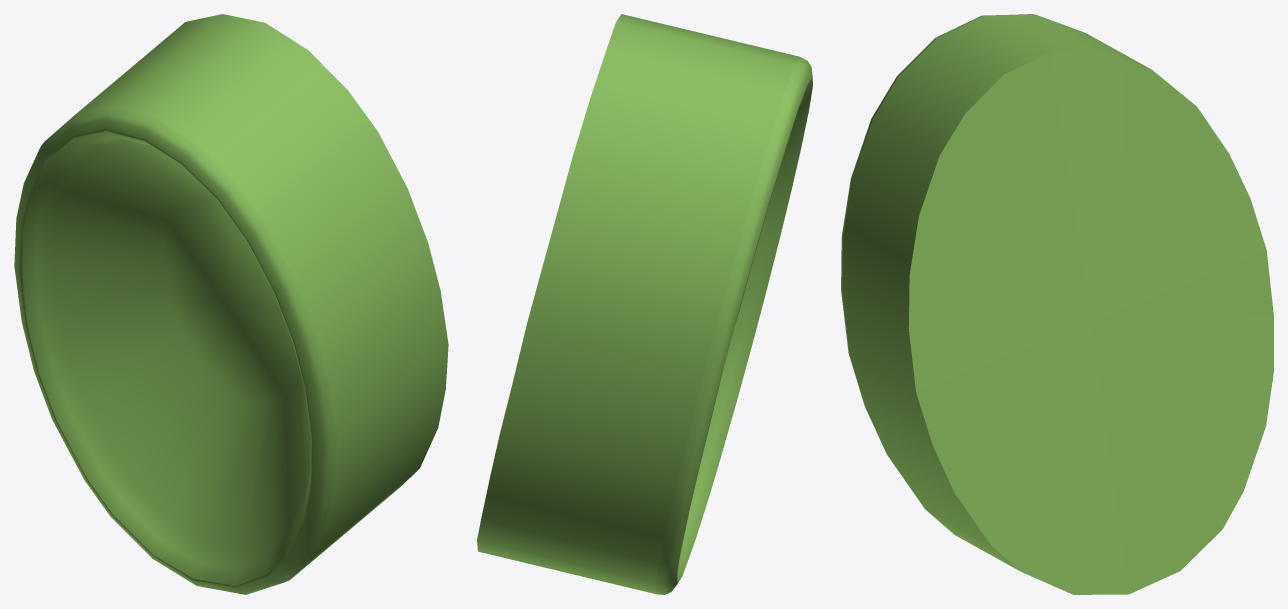
The model's file is TL5_8shapes_Oval_Classic_Metal.001 3.glb.
3 renders of one model, left to right at view 1: azimuth 30°, elevation 25°; view 2: azimuth 150°, elevation 25°; view 3: azimuth 270°, elevation 25°, orthographic. The views are drawn at different scales.
Parts seen in each view (by area): view 1: TL5_8shapes_Oval_Classic_Metal.001; view 2: TL5_8shapes_Oval_Classic_Metal.001; view 3: TL5_8shapes_Oval_Classic_Metal.001.
Boxes of the visible parts, x1=… form: TL5_8shapes_Oval_Classic_Metal.001: x1=14, y1=14, x2=448, y2=594; TL5_8shapes_Oval_Classic_Metal.001: x1=477, y1=14, x2=812, y2=594; TL5_8shapes_Oval_Classic_Metal.001: x1=841, y1=14, x2=1273, y2=594.
Bounding box in the file's own units: 0.3703 × 0.6274 × 0.4639.
